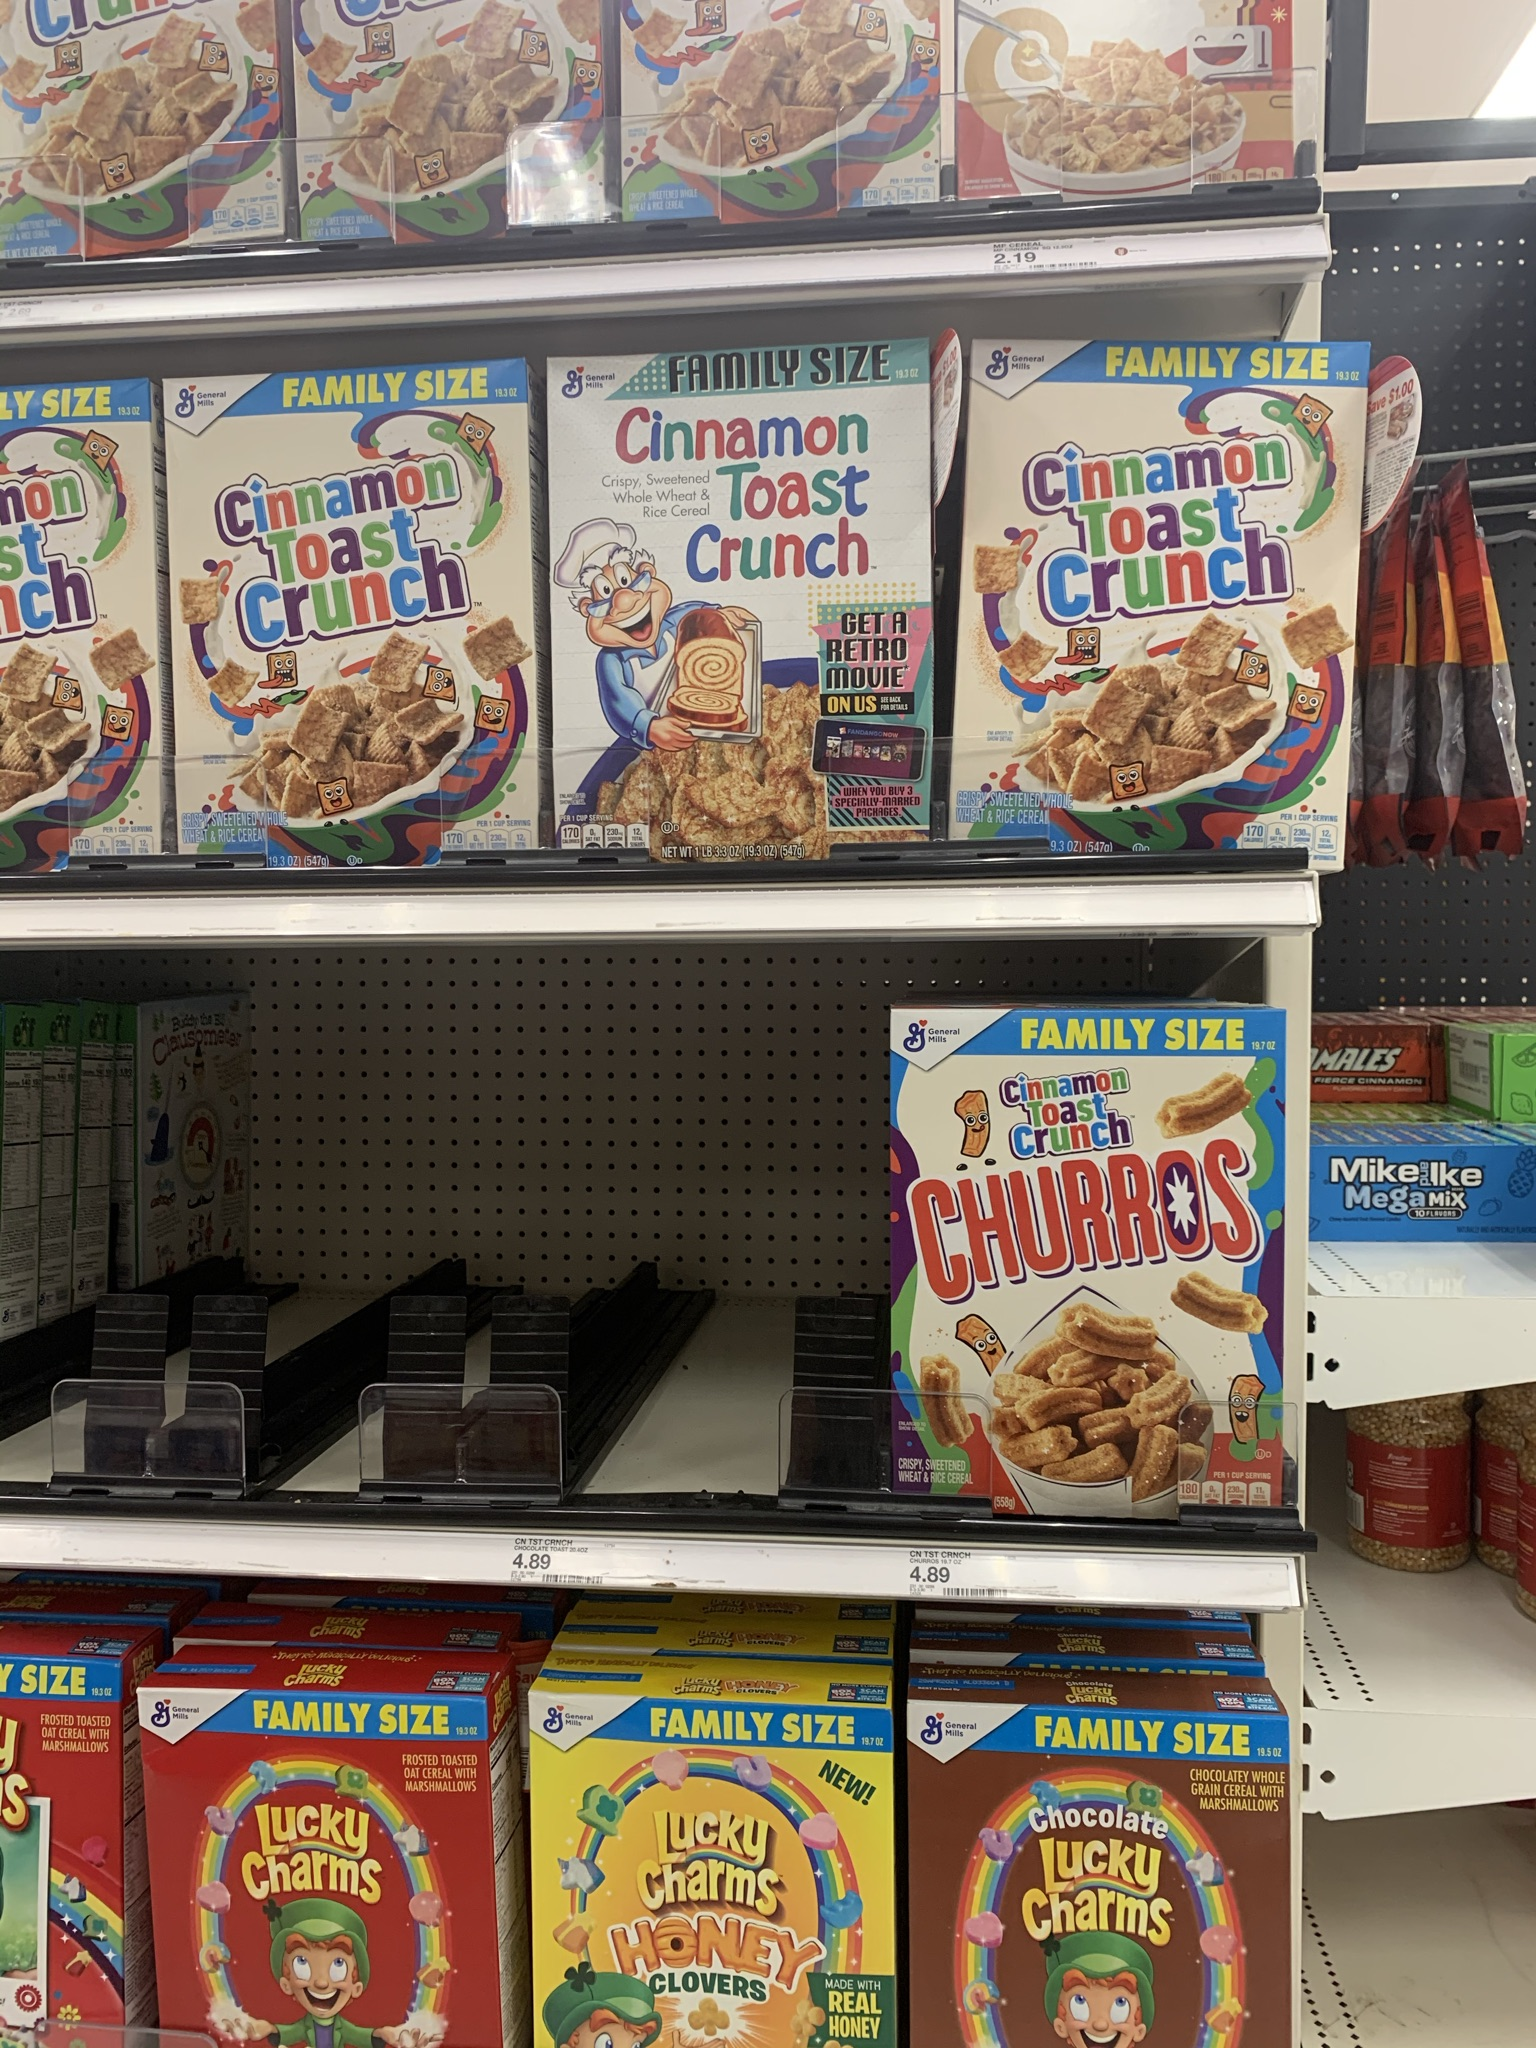cereal: (957, 343, 1394, 863), (566, 339, 945, 864), (878, 1014, 1278, 1511), (179, 355, 536, 895), (523, 1682, 883, 2042), (140, 1698, 503, 2048), (916, 1698, 1265, 2048), (2, 385, 160, 880)
